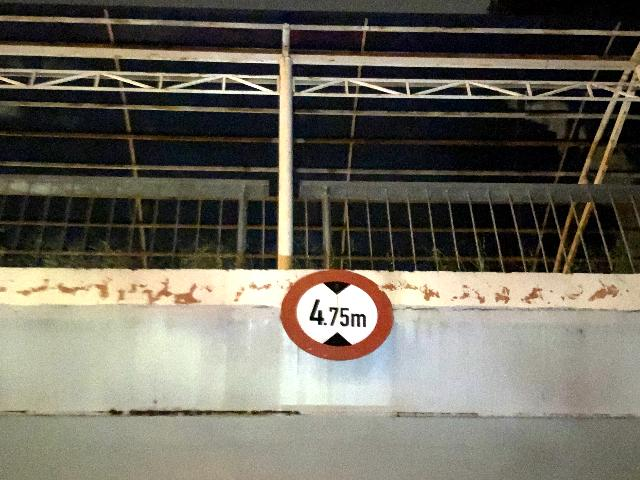han-che-chieu-cao: (281, 268, 394, 361)
